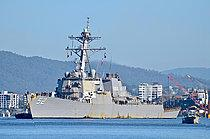MIL_Ship: (24, 15, 182, 120)
